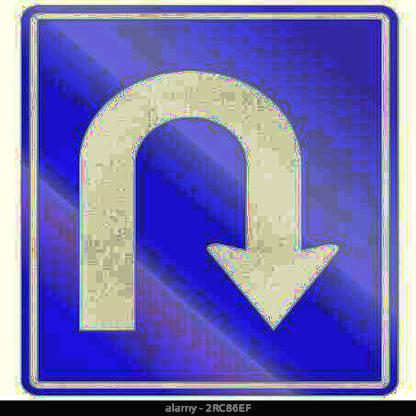U-turn: (25, 6, 389, 394)
